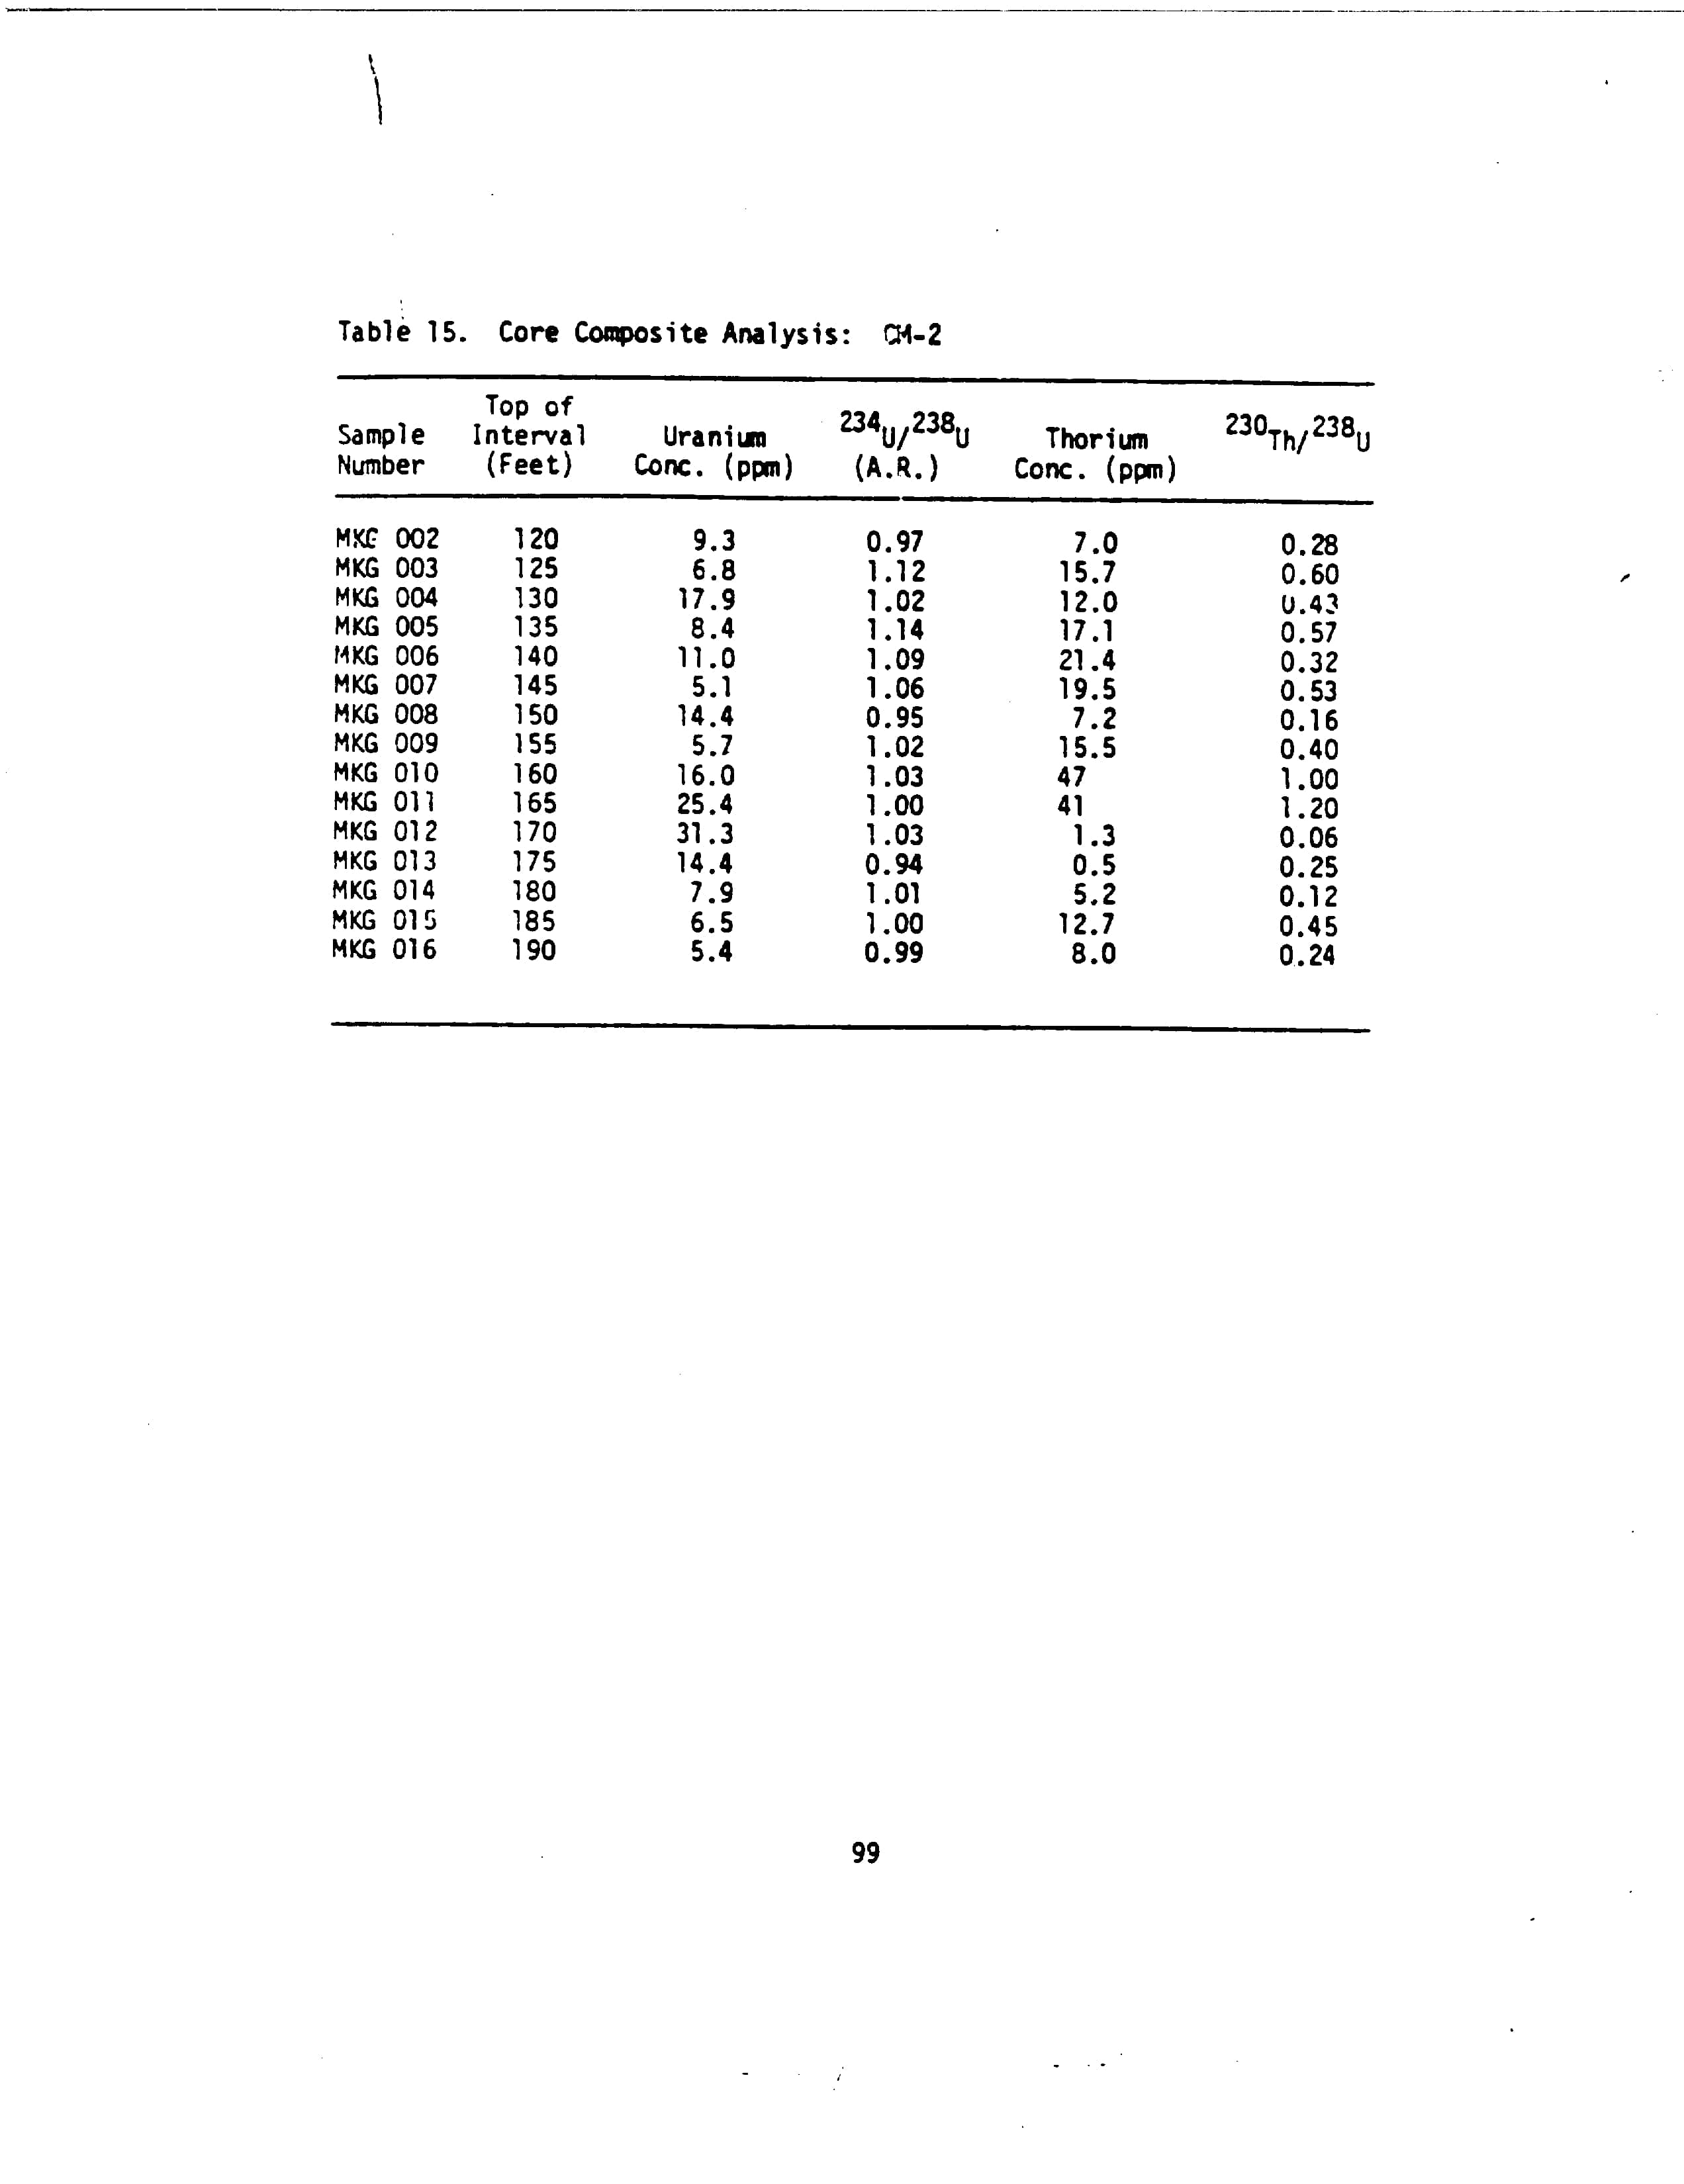table: (329, 377, 1401, 1040)
